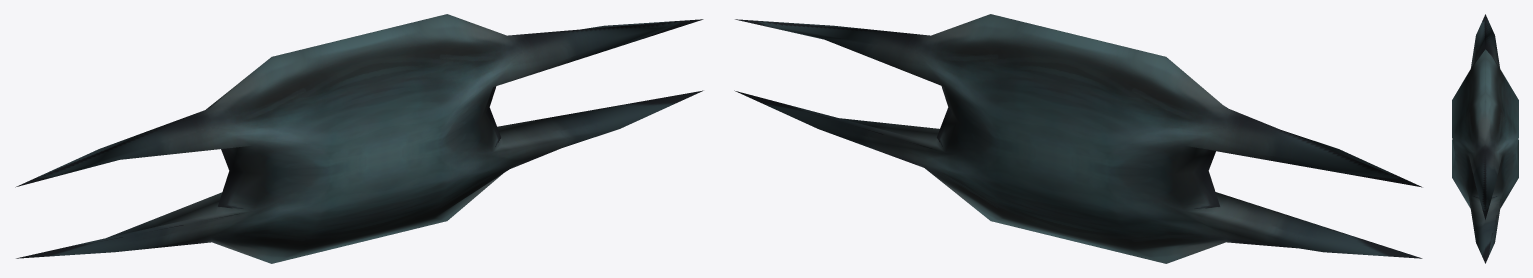
Rendered from mermaidpurse.glb.
The picture shows the model from 3 angles, left to right: view 1: azimuth 30°, elevation 25°; view 2: azimuth 150°, elevation 25°; view 3: azimuth 270°, elevation 25°; orthographic projection. The views are drawn at different scales.
Visible parts, largest first — view 1: mermaid_purse; view 2: mermaid_purse; view 3: mermaid_purse.
Boxes of the visible parts, x1,y1,x2,y2 form: mermaid_purse: [15, 14, 703, 263]; mermaid_purse: [734, 14, 1422, 263]; mermaid_purse: [1452, 14, 1518, 263].
Bounding box in the file's own units: 2.75 × 0.7881 × 0.3756.
Materials: 1 (1 with a texture image).
